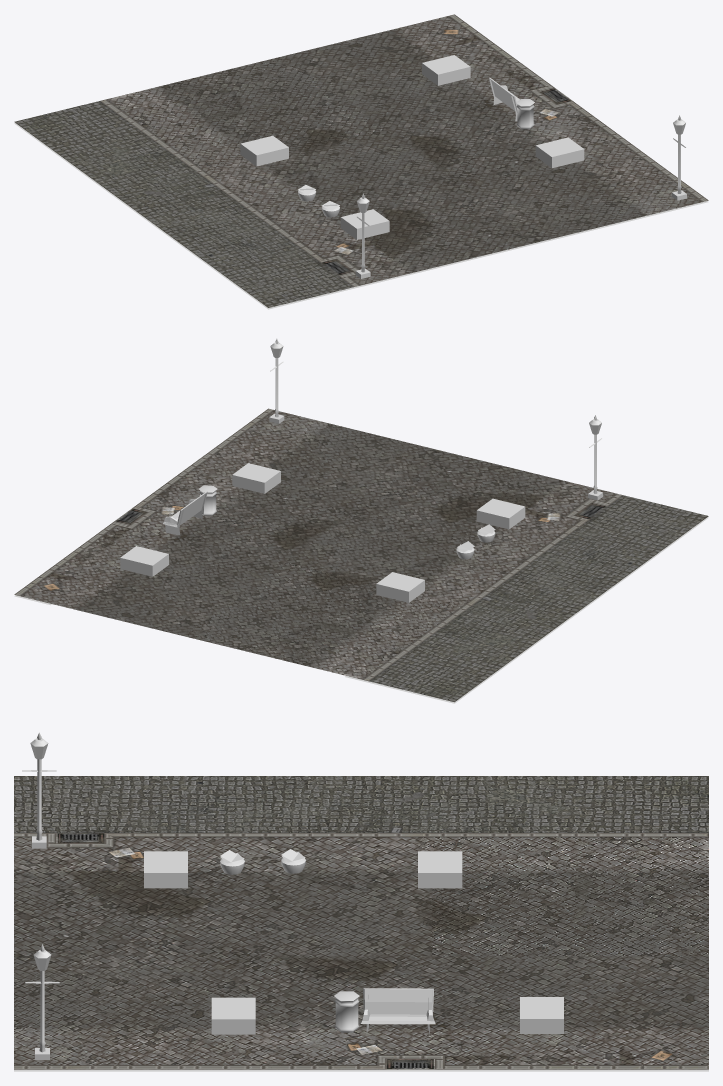
Rendered from worker_scraper_end_right.gltf.
The picture shows the model from 3 angles, top to bottom: view 1: azimuth 30°, elevation 25°; view 2: azimuth 150°, elevation 25°; view 3: azimuth 270°, elevation 25°; orthographic projection. The views are drawn at different scales.
Visible parts, largest first — view 1: ground, fc_feedback_door_2, fc_feedback_door_3, fc_feedback_door_1, fc_feedback_door_0, FeedbackBlocker.001, prop_bench1, prop_trashcan1, UnevenBlocker; view 2: ground, fc_feedback_door_0, fc_feedback_door_3, fc_feedback_door_2, fc_feedback_door_1, FeedbackBlocker.001, prop_bench1; view 3: ground, prop_bench1, FeedbackBlocker, fc_feedback_door_2, fc_feedback_door_3, fc_feedback_door_0, fc_feedback_door_1, prop_trashcan1, prop_lightpost_1, prop_lightpost_2.
Boxes of the visible parts, left/top/right/bottom form: ground: left=14, top=14, right=708, bottom=307; fc_feedback_door_2: left=535, top=137, right=584, bottom=168; fc_feedback_door_3: left=240, top=135, right=288, bottom=166; fc_feedback_door_1: left=422, top=55, right=470, bottom=85; fc_feedback_door_0: left=340, top=209, right=389, bottom=239; FeedbackBlocker.001: left=14, top=123, right=378, bottom=309; prop_bench1: left=488, top=77, right=519, bottom=121; prop_trashcan1: left=516, top=99, right=534, bottom=129; UnevenBlocker: left=414, top=219, right=634, bottom=273; ground: left=14, top=408, right=708, bottom=702; fc_feedback_door_0: left=476, top=498, right=525, bottom=529; fc_feedback_door_3: left=376, top=572, right=424, bottom=602; fc_feedback_door_2: left=232, top=463, right=280, bottom=493; fc_feedback_door_1: left=120, top=546, right=168, bottom=576; FeedbackBlocker.001: left=345, top=517, right=708, bottom=703; prop_bench1: left=162, top=491, right=207, bottom=535; ground: left=14, top=776, right=708, bottom=1069; prop_bench1: left=360, top=988, right=435, bottom=1034; FeedbackBlocker: left=14, top=1069, right=708, bottom=1071; fc_feedback_door_2: left=211, top=997, right=255, bottom=1034; fc_feedback_door_3: left=418, top=851, right=462, bottom=888; fc_feedback_door_0: left=144, top=851, right=187, bottom=888; fc_feedback_door_1: left=520, top=997, right=563, bottom=1033; prop_trashcan1: left=334, top=991, right=359, bottom=1032; prop_lightpost_1: left=25, top=944, right=59, bottom=1052; prop_lightpost_2: left=22, top=732, right=56, bottom=840.
Size of what is drawn, in the model's own units: 3 by 0.6306 by 3.
Materials: 1 (1 with a texture image).
